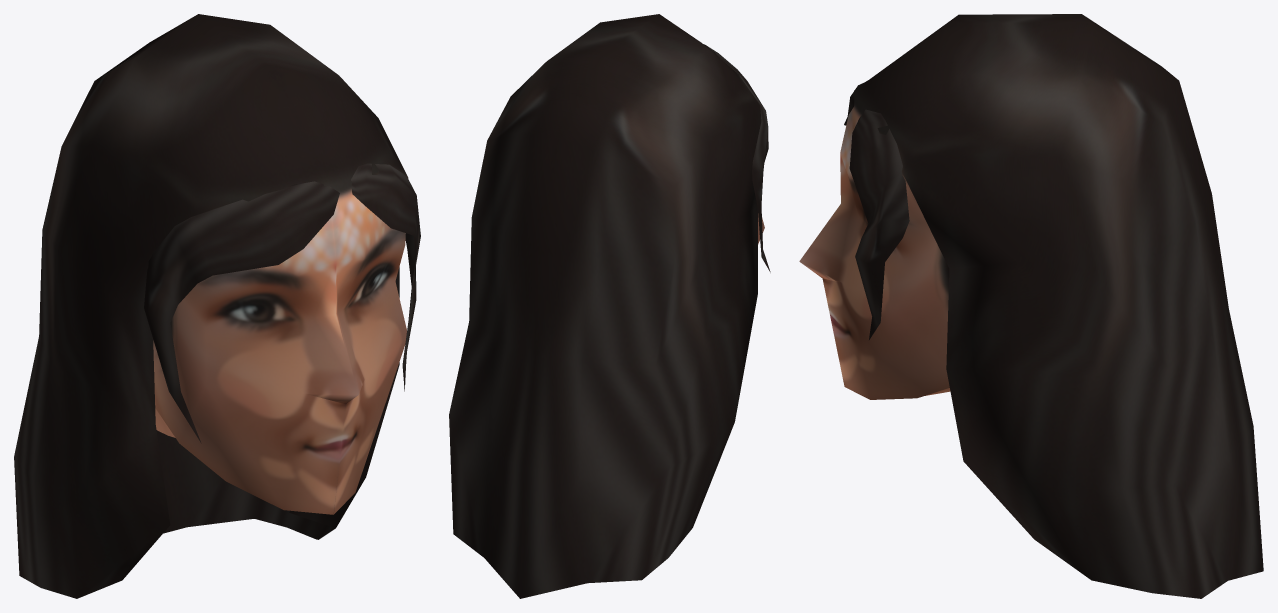
File: maya_f_head_l1.dae
The picture shows the model from 3 angles, left to right: view 1: azimuth 30°, elevation 25°; view 2: azimuth 150°, elevation 25°; view 3: azimuth 270°, elevation 25°; orthographic projection. The views are drawn at different scales.
Visible parts, largest first — view 1: maya-_f_head_l1; view 2: maya-_f_head_l1; view 3: maya-_f_head_l1.
Part boxes in pixels (left/top/right/bottom): maya-_f_head_l1: left=14, top=14, right=420, bottom=598; maya-_f_head_l1: left=449, top=14, right=770, bottom=598; maya-_f_head_l1: left=799, top=14, right=1263, bottom=598.
Size of the model in its own units: 0.4715 by 0.7132 by 0.9303.
